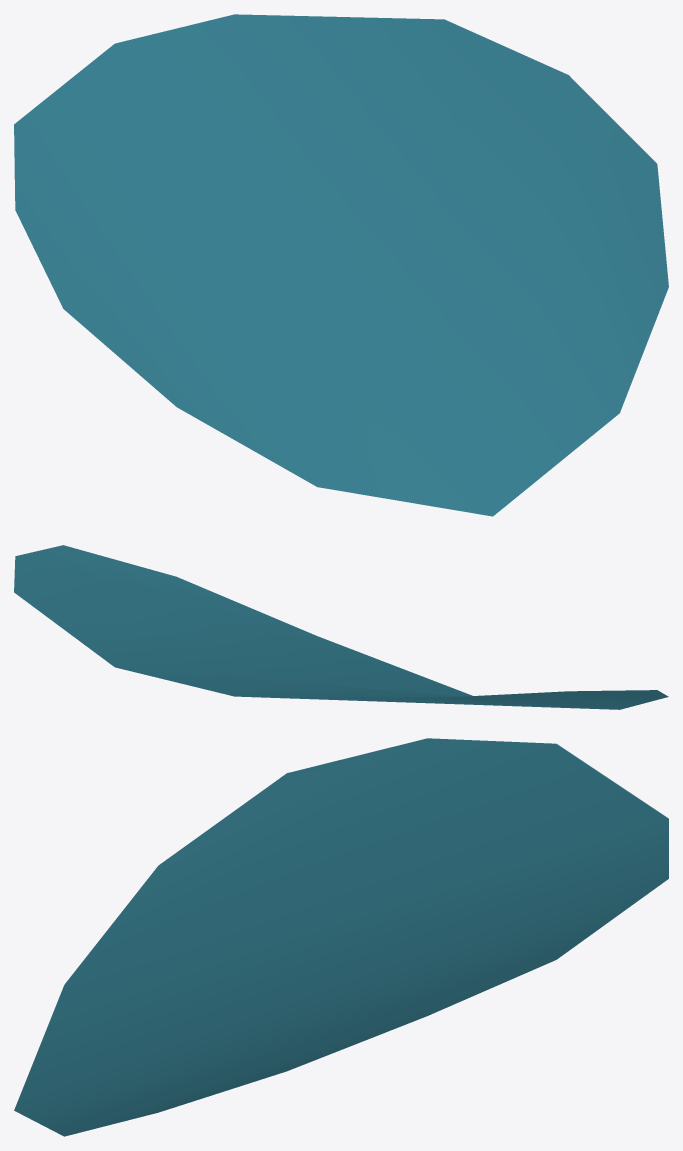
File: zo_hom_visage_interface.max.fbx
3 renders of one model, top to bottom at view 1: azimuth 30°, elevation 25°; view 2: azimuth 150°, elevation 25°; view 3: azimuth 270°, elevation 25°, orthographic. The views are drawn at different scales.
Visible parts, largest first — view 1: FY_HOM_interfaces_new; view 2: FY_HOM_interfaces_new; view 3: FY_HOM_interfaces_new.
Part boxes in pixels (x1,y1,x2,y2): FY_HOM_interfaces_new: [14, 14, 668, 516]; FY_HOM_interfaces_new: [14, 545, 668, 709]; FY_HOM_interfaces_new: [14, 738, 668, 1136].
Size of the model in its own units: 0.1222 by 0.0501 by 0.1135.
